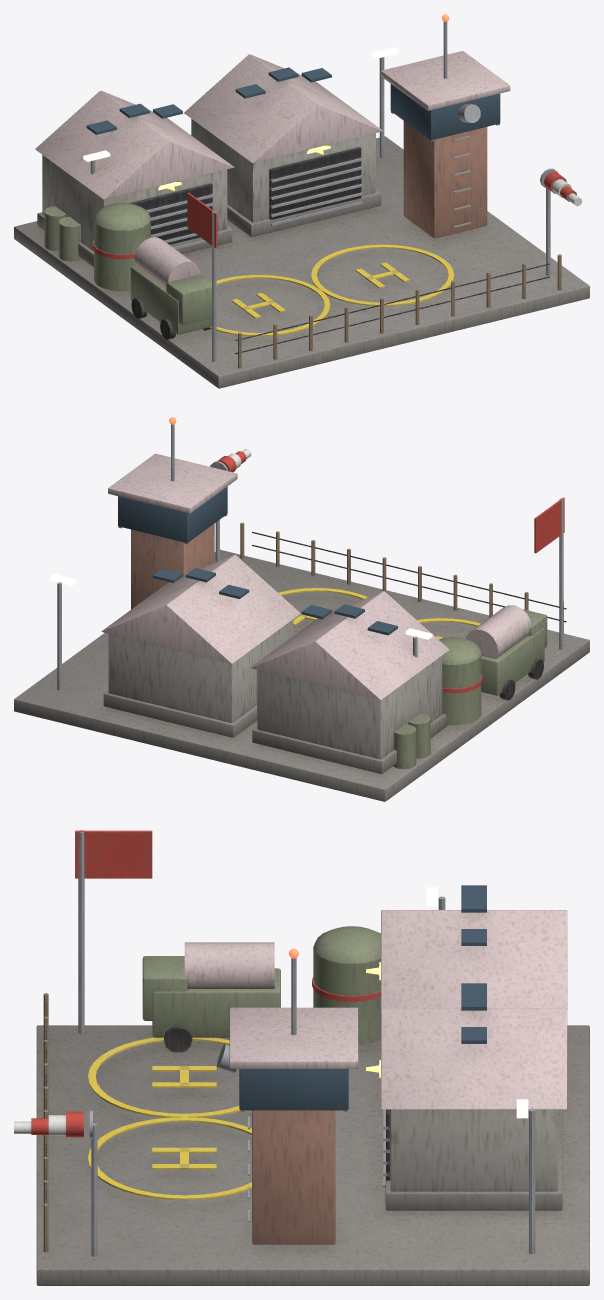
File: red_airfield.glb
The picture shows the model from 3 angles, top to bottom: view 1: azimuth 30°, elevation 25°; view 2: azimuth 150°, elevation 25°; view 3: azimuth 270°, elevation 25°; orthographic projection. The views are drawn at different scales.
Parts seen in each view (by area): view 1: Hull; view 2: Hull; view 3: Hull.
Part boxes in pixels (left/top/right/bottom): Hull: left=14, top=14, right=589, bottom=388; Hull: left=14, top=417, right=589, bottom=801; Hull: left=14, top=830, right=589, bottom=1285.
Bounding box in the file's own units: 9.12 × 5.23 × 8.95.
17 materials, 17 textured.
